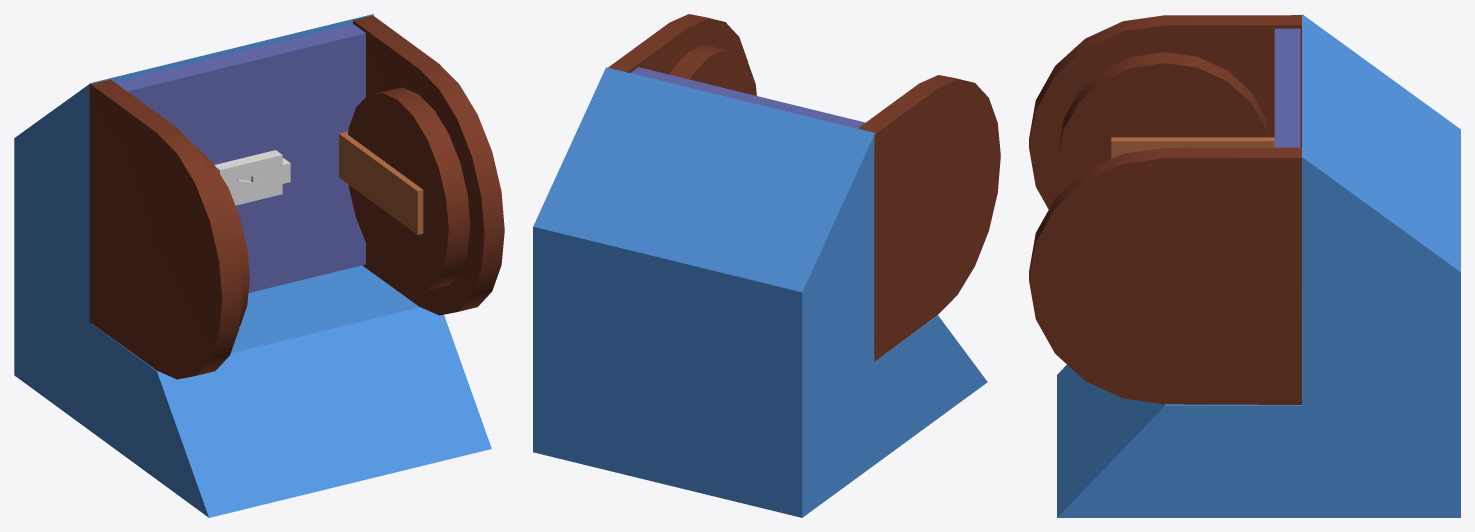
The model's file is BatterySocket.fbx.
3 renders of one model, left to right at view 1: azimuth 30°, elevation 25°; view 2: azimuth 150°, elevation 25°; view 3: azimuth 270°, elevation 25°, orthographic. The views are drawn at different scales.
Visible parts, largest first — view 1: BatterySlot, BatteryIndicator; view 2: BatterySlot; view 3: BatterySlot.
Boxes of the visible parts, x1,y1,x2,y2 form: BatterySlot: (14,14,504,517); BatteryIndicator: (215,150,290,205); BatterySlot: (533,14,1000,517); BatterySlot: (1029,14,1460,517).
Size of the model in its own units: 53.7 by 63.12 by 68.43.
